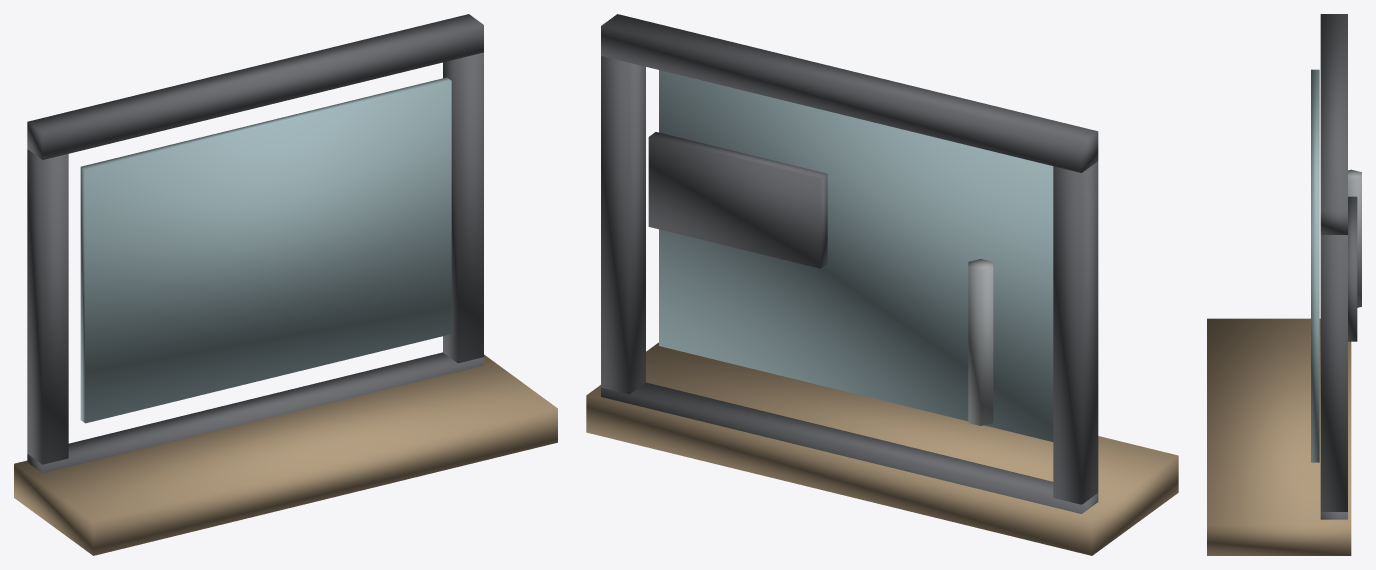
File: service_window__service.glb
3 views of the same model, side by side, from view 1: azimuth 30°, elevation 25°; view 2: azimuth 150°, elevation 25°; view 3: azimuth 270°, elevation 25° (orthographic). The views are drawn at different scales.
Parts seen in each view (by area): view 1: world; view 2: world; view 3: world.
Part boxes in pixels (x1,y1,x2,y2): world: [14, 14, 557, 555]; world: [586, 14, 1178, 555]; world: [1207, 14, 1361, 555].
Bounding box in the file's own units: 1.42 × 1.1 × 0.4503.
